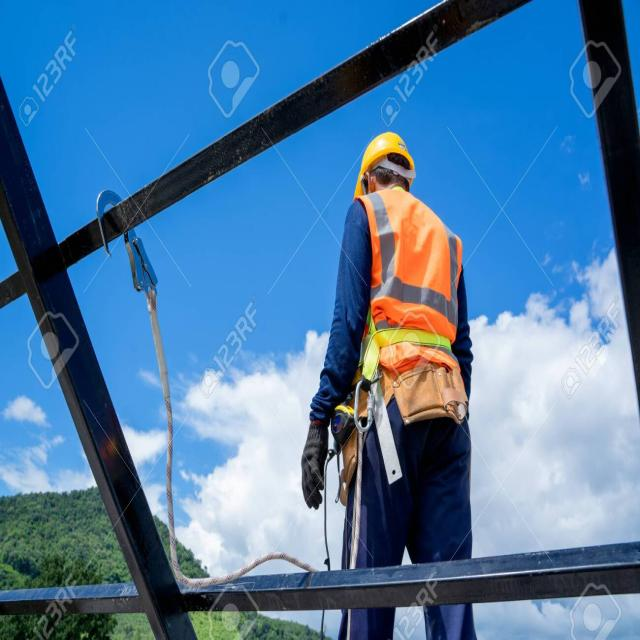gloves: (297, 422, 331, 512)
helmet: (354, 129, 416, 194)
vest: (350, 186, 468, 378)
